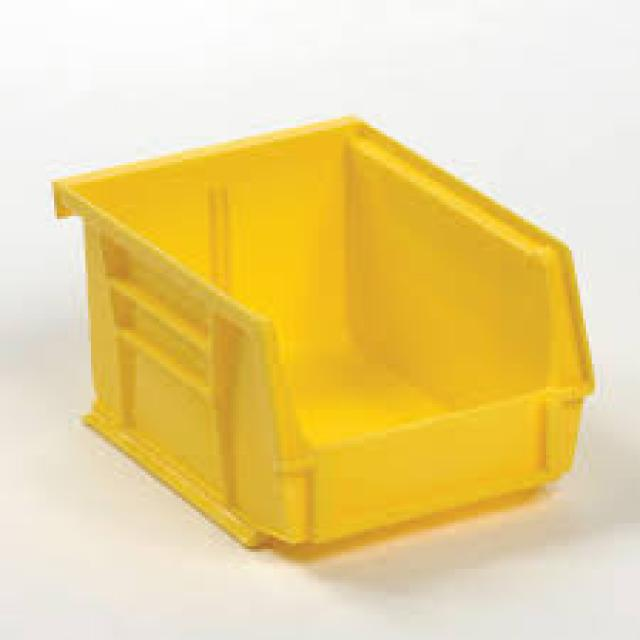basket: (41, 84, 613, 584)
